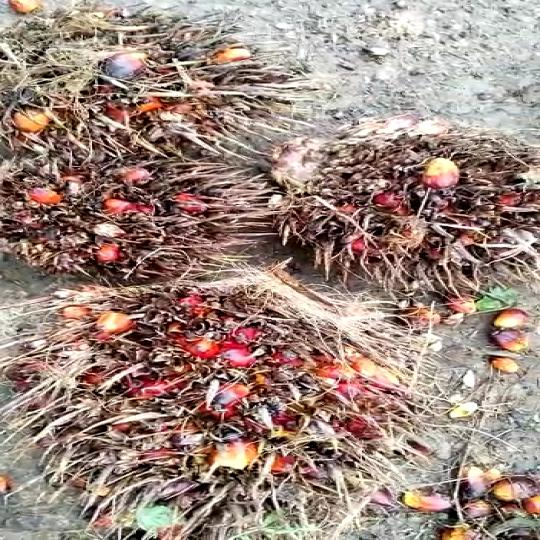terlalu masak: (0, 271, 454, 540), (262, 111, 540, 295), (0, 144, 245, 285)
